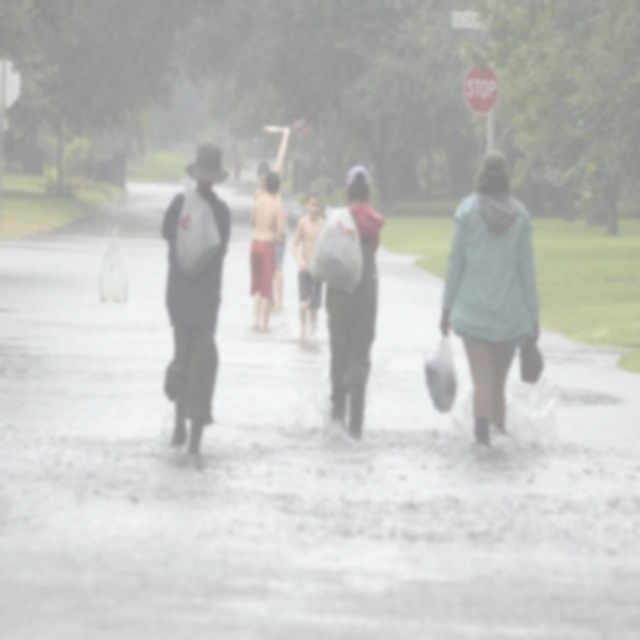pessoa: (422, 147, 545, 450), (156, 138, 234, 466), (323, 162, 388, 450), (252, 126, 290, 311), (247, 168, 288, 336), (290, 185, 330, 342)
